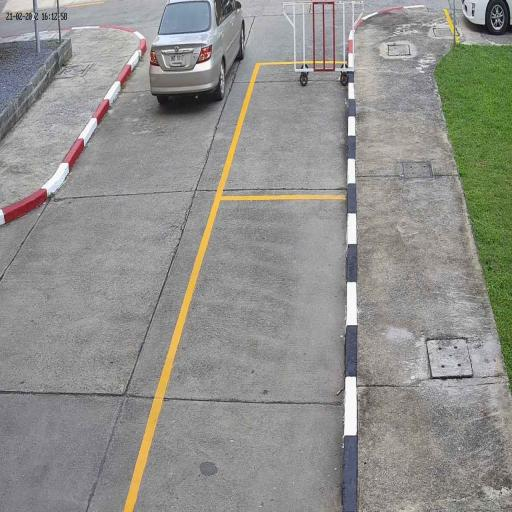car: (149, 0, 244, 102)
